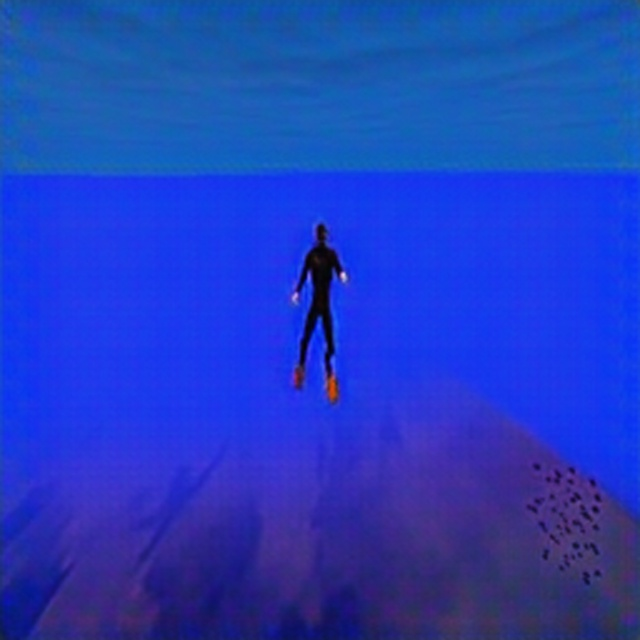diver: (289, 218, 350, 404)
